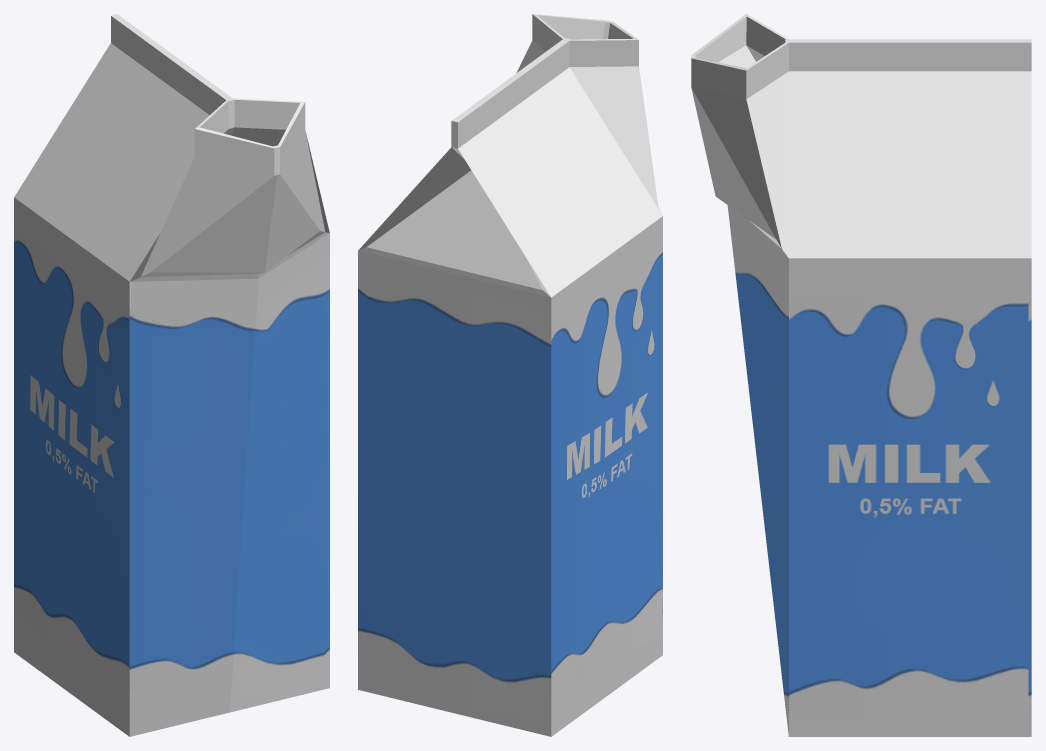
Rendered from Milk Carton NEW.fbx.
3 renders of one model, left to right at view 1: azimuth 30°, elevation 25°; view 2: azimuth 150°, elevation 25°; view 3: azimuth 270°, elevation 25°, orthographic. The views are drawn at different scales.
Visible parts, largest first — view 1: Milk Carton; view 2: Milk Carton; view 3: Milk Carton.
Part boxes in pixels (x1=…): Milk Carton: x1=14, y1=14, x2=329, y2=736; Milk Carton: x1=358, y1=14, x2=662, y2=736; Milk Carton: x1=691, y1=14, x2=1031, y2=736.
Bounding box in the file's own units: 17.96 × 52.58 × 25.18.
